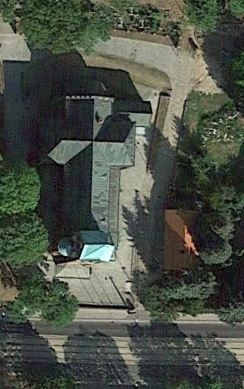church: (39, 72, 139, 266)
family house: (161, 205, 212, 274)
